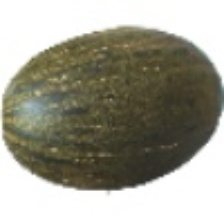honeydew: (47, 56, 189, 210)
